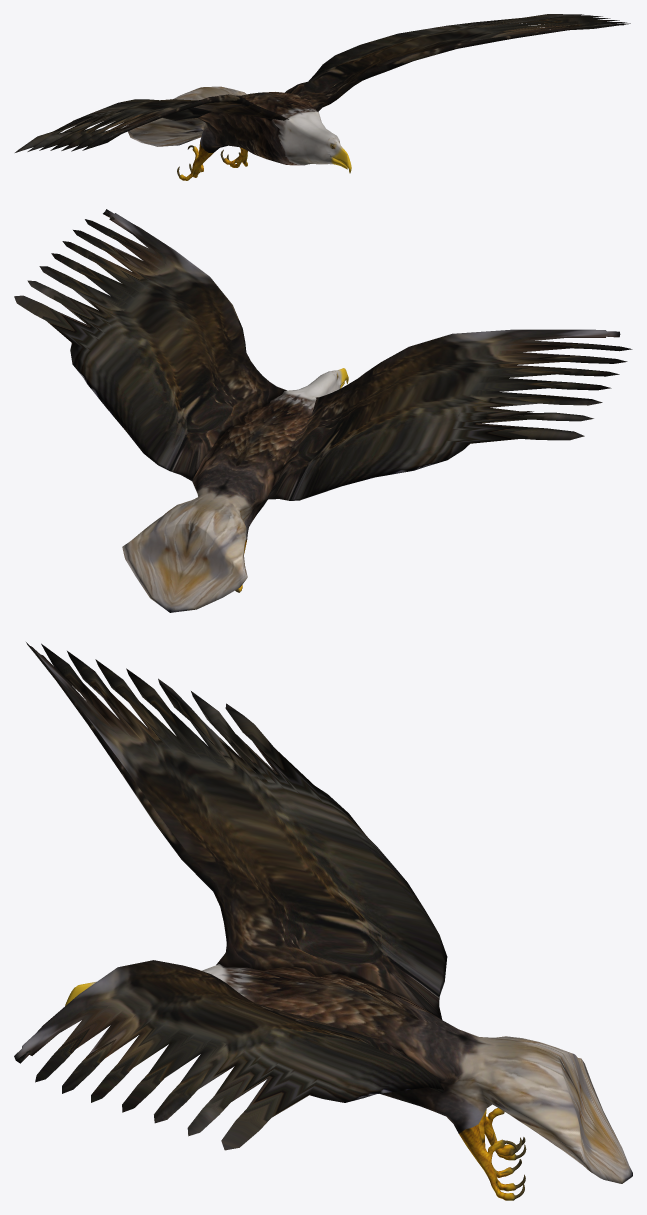
File: Eagle-original_000026.obj
3 views of the same model, one above another, from view 1: azimuth 30°, elevation 25°; view 2: azimuth 150°, elevation 25°; view 3: azimuth 270°, elevation 25° (orthographic). The views are drawn at different scales.
Parts seen in each view (by area): view 1: Flugel_Plane.003; view 2: Flugel_Plane.003; view 3: Flugel_Plane.003.
Boxes of the visible parts, <box> form: Flugel_Plane.003: <box>15,14,630,180</box>; Flugel_Plane.003: <box>14,209,632,612</box>; Flugel_Plane.003: <box>14,642,632,1200</box>.
Bounding box in the file's own units: 10.72 × 3.72 × 6.27.
1 material, 1 textured.
